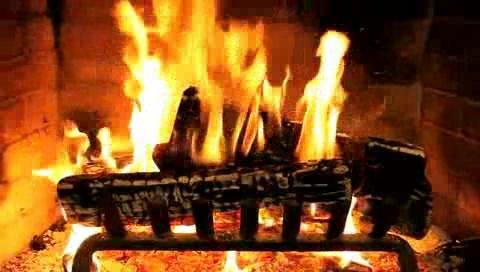fire: (106, 4, 347, 170)
